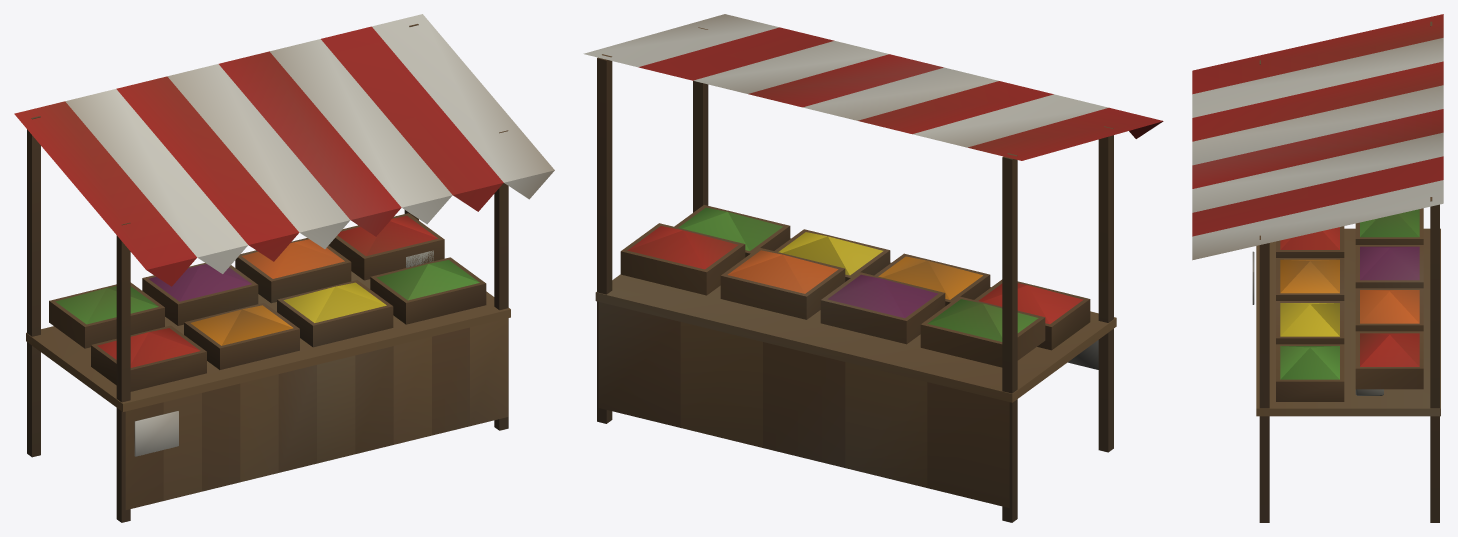
Rendered from awning_stand.glb.
3 views of the same model, side by side, from view 1: azimuth 30°, elevation 25°; view 2: azimuth 150°, elevation 25°; view 3: azimuth 270°, elevation 25° (orthographic). The views are drawn at different scales.
Visible parts, largest first — view 1: AwningStand; view 2: AwningStand; view 3: AwningStand.
Part boxes in pixels (box(x1,y1,x2,y2)): AwningStand: box(14, 14, 554, 522); AwningStand: box(583, 14, 1163, 522); AwningStand: box(1192, 14, 1443, 522).
Bounding box in the file's own units: 3.16 × 2.52 × 1.77.
